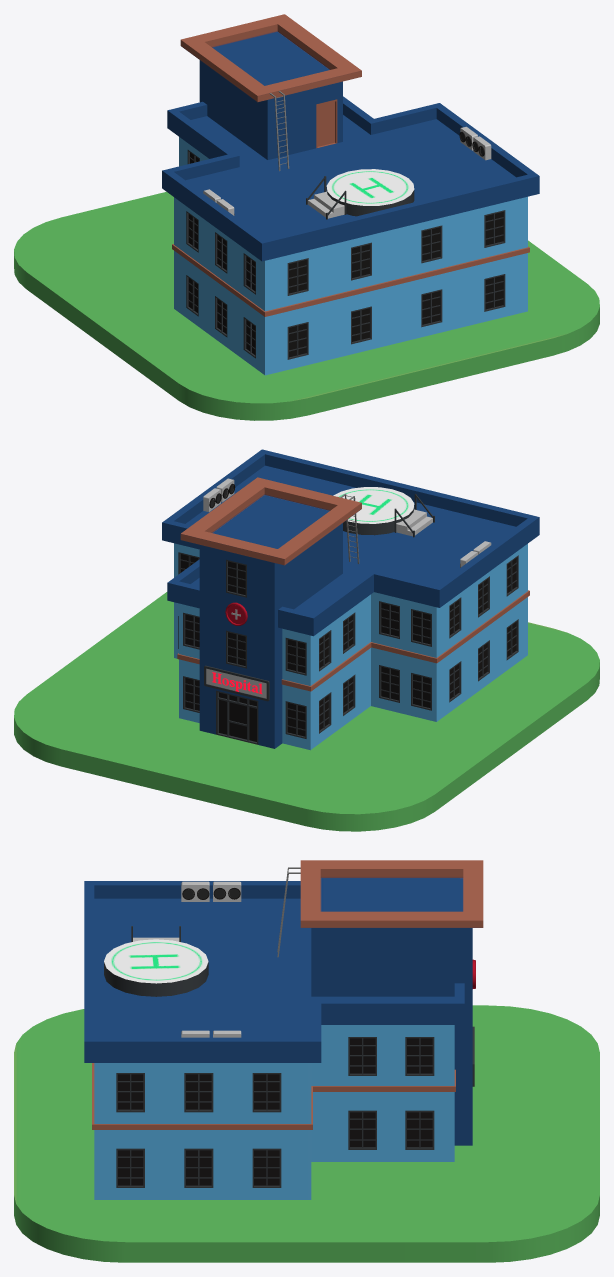
File: low_poly_hospital_building.glb
3 renders of one model, top to bottom at view 1: azimuth 30°, elevation 25°; view 2: azimuth 150°, elevation 25°; view 3: azimuth 270°, elevation 25°, orthographic. The views are drawn at different scales.
Visible parts, largest first — view 1: Hospital; view 2: Hospital; view 3: Hospital.
Part boxes in pixels (<box>): Hospital: <box>14,14,599,420</box>; Hospital: <box>14,449,599,831</box>; Hospital: <box>14,860,599,1262</box>.
Size of the model in its own units: 18.88 by 9.45 by 19.75.
1 material, 1 textured.
